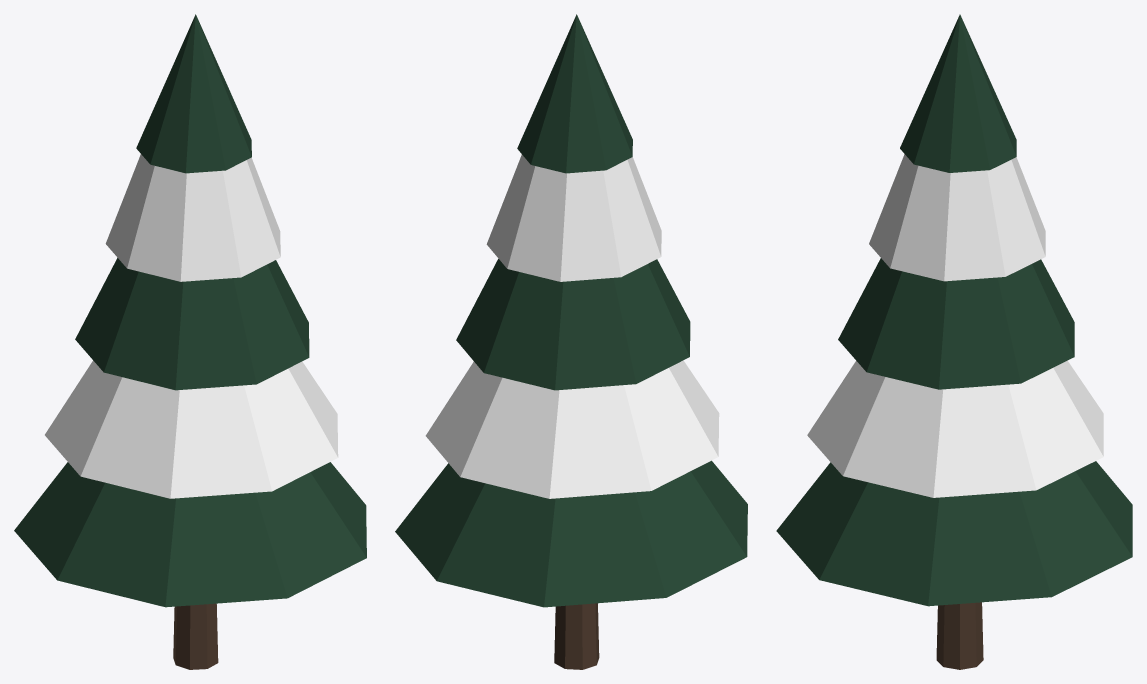
The model's file is pine.glb.
3 views of the same model, side by side, from view 1: azimuth 30°, elevation 25°; view 2: azimuth 150°, elevation 25°; view 3: azimuth 270°, elevation 25° (orthographic).
Visible parts, largest first — view 1: beret/tree; view 2: beret/tree; view 3: beret/tree.
Part boxes in pixels (x1,y1,x2,y2): beret/tree: [14, 14, 366, 669]; beret/tree: [395, 14, 747, 669]; beret/tree: [776, 14, 1132, 669].
Bounding box in the file's own units: 2.5 × 5 × 2.5.
